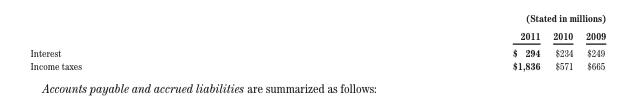table: (29, 29, 605, 71)
table column: (29, 29, 296, 71), (296, 29, 545, 71), (545, 29, 578, 71), (578, 29, 605, 71)
table column header: (29, 29, 605, 43)
table row: (29, 43, 605, 59), (29, 29, 605, 43), (29, 59, 605, 71)
